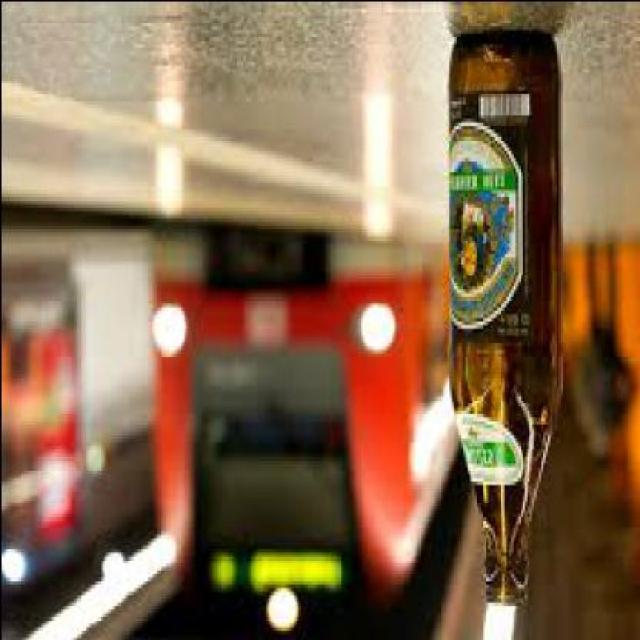GLASS: (444, 32, 558, 605)
